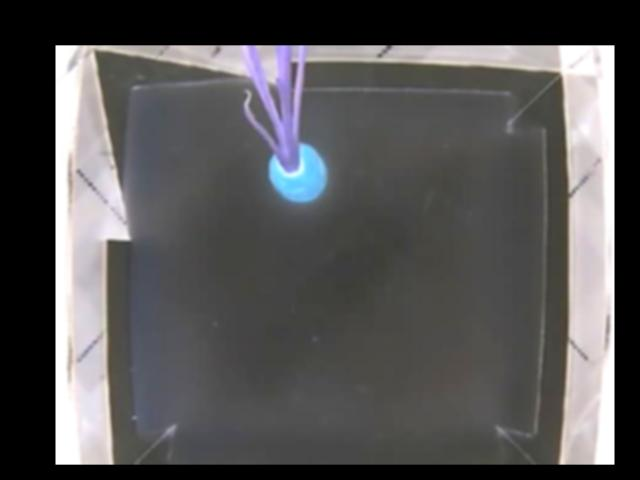Carrot: (260, 104, 330, 203)
